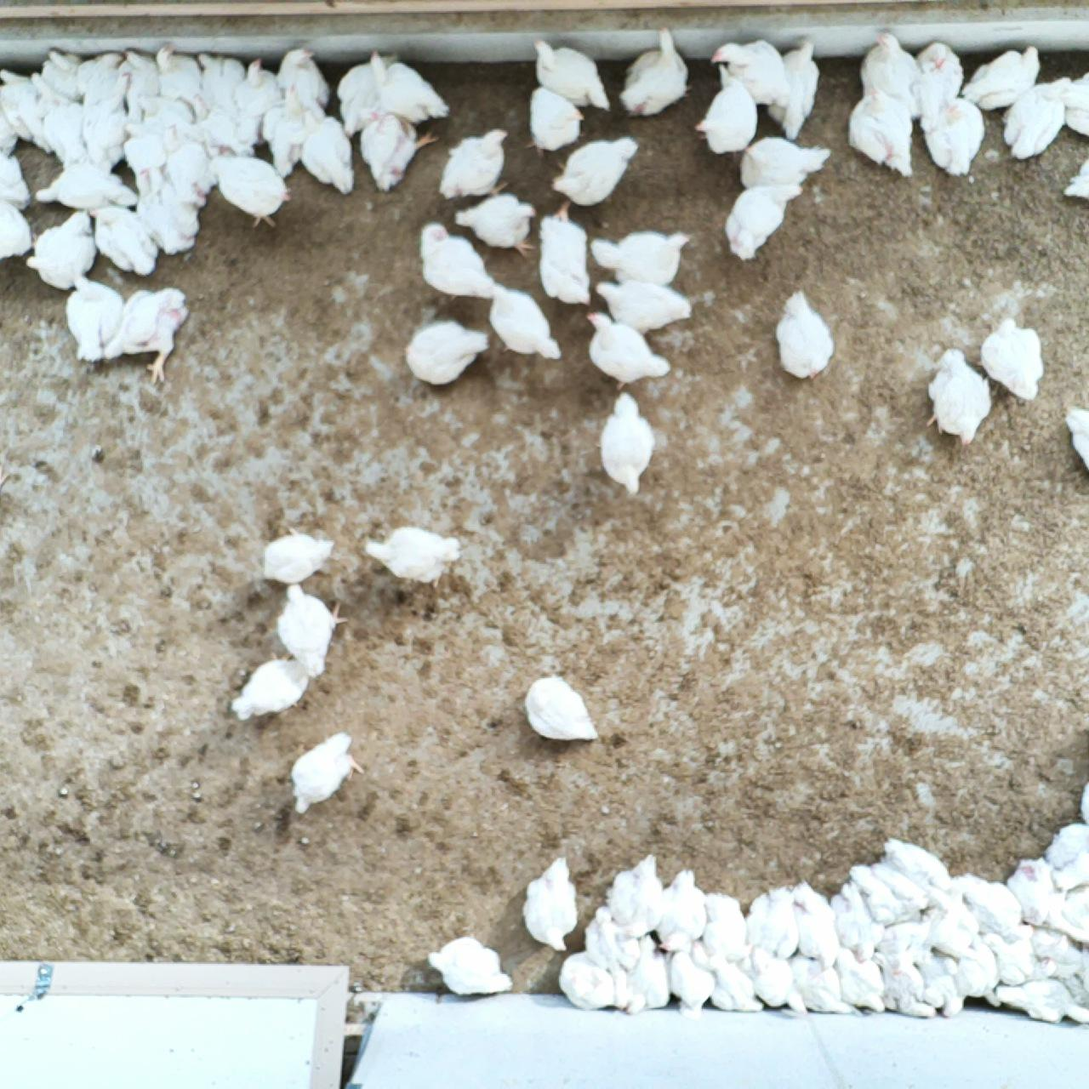chicken: (104, 279, 194, 384), (585, 308, 672, 390), (284, 731, 365, 817), (358, 105, 436, 194), (590, 273, 695, 339), (925, 348, 995, 446), (550, 134, 640, 208), (528, 36, 613, 114), (277, 583, 346, 678), (208, 154, 292, 232), (623, 24, 694, 116), (999, 72, 1071, 162), (295, 90, 355, 197), (763, 36, 823, 143), (21, 207, 97, 291), (848, 82, 913, 180), (486, 278, 562, 361), (593, 389, 653, 494), (711, 36, 793, 112), (130, 164, 199, 254), (25, 72, 89, 169), (404, 319, 491, 389), (536, 201, 595, 304), (417, 222, 495, 299), (225, 654, 313, 722), (365, 49, 443, 125), (592, 226, 692, 285), (738, 133, 833, 195), (978, 317, 1046, 403), (523, 672, 603, 745), (364, 523, 461, 582), (701, 59, 759, 157), (428, 936, 516, 1000), (585, 904, 638, 1010), (58, 273, 121, 362), (260, 82, 317, 180), (774, 287, 835, 378), (725, 178, 790, 263), (85, 202, 160, 275), (454, 190, 536, 256), (921, 97, 986, 180), (964, 46, 1045, 112), (523, 855, 577, 953), (336, 48, 396, 135), (860, 31, 920, 117), (33, 162, 138, 211), (604, 853, 664, 937), (84, 72, 133, 174), (437, 129, 507, 200), (787, 953, 860, 1020), (653, 865, 708, 953), (995, 975, 1089, 1026), (162, 124, 219, 208), (743, 885, 798, 971), (226, 57, 282, 140), (787, 880, 841, 965), (846, 864, 916, 928), (981, 932, 1062, 987), (0, 66, 52, 151), (880, 833, 950, 896), (111, 43, 163, 127), (747, 946, 810, 1014), (270, 46, 332, 115), (828, 947, 887, 1019), (261, 525, 335, 582), (909, 40, 966, 114), (626, 935, 677, 1017), (831, 879, 878, 966), (525, 87, 585, 155), (197, 99, 260, 162), (861, 854, 929, 912), (913, 949, 968, 1020), (955, 930, 1003, 1010), (872, 951, 931, 1016), (194, 48, 248, 119), (955, 872, 1019, 931), (697, 892, 748, 966), (701, 953, 764, 1011), (924, 895, 978, 959), (1042, 820, 1089, 892), (1009, 856, 1057, 926), (876, 914, 931, 975), (559, 948, 613, 1009), (131, 84, 198, 133), (1027, 924, 1089, 976), (667, 945, 714, 1012), (118, 111, 164, 175), (154, 42, 201, 102), (74, 46, 125, 101), (37, 51, 86, 104), (1048, 881, 1089, 940), (0, 150, 35, 213), (0, 197, 35, 260), (1060, 69, 1089, 136), (1062, 403, 1089, 470), (1061, 155, 1089, 202), (0, 98, 20, 158), (1079, 780, 1089, 826)
